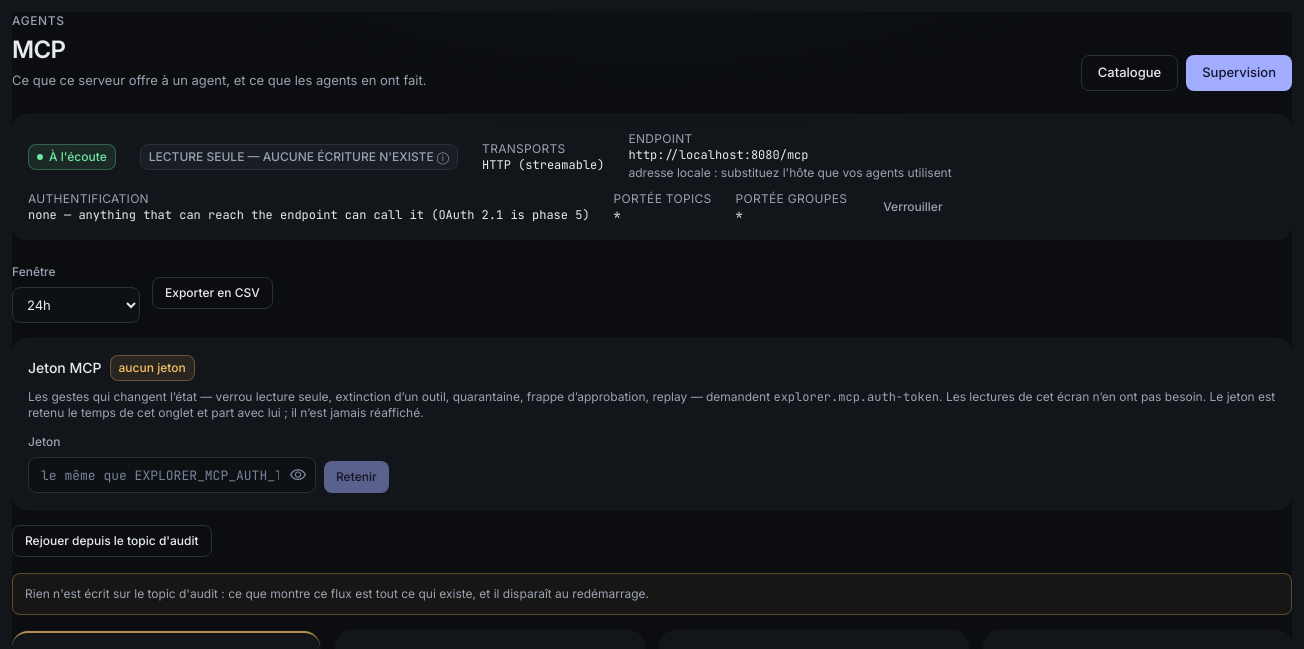
les leviers du commutateur › ne réaffiche jamais le jeton, et l’oublie sur demande
Type "secret-token" into the password field labelled "Jeton". click: (172, 475)
box: [28, 457, 316, 493]
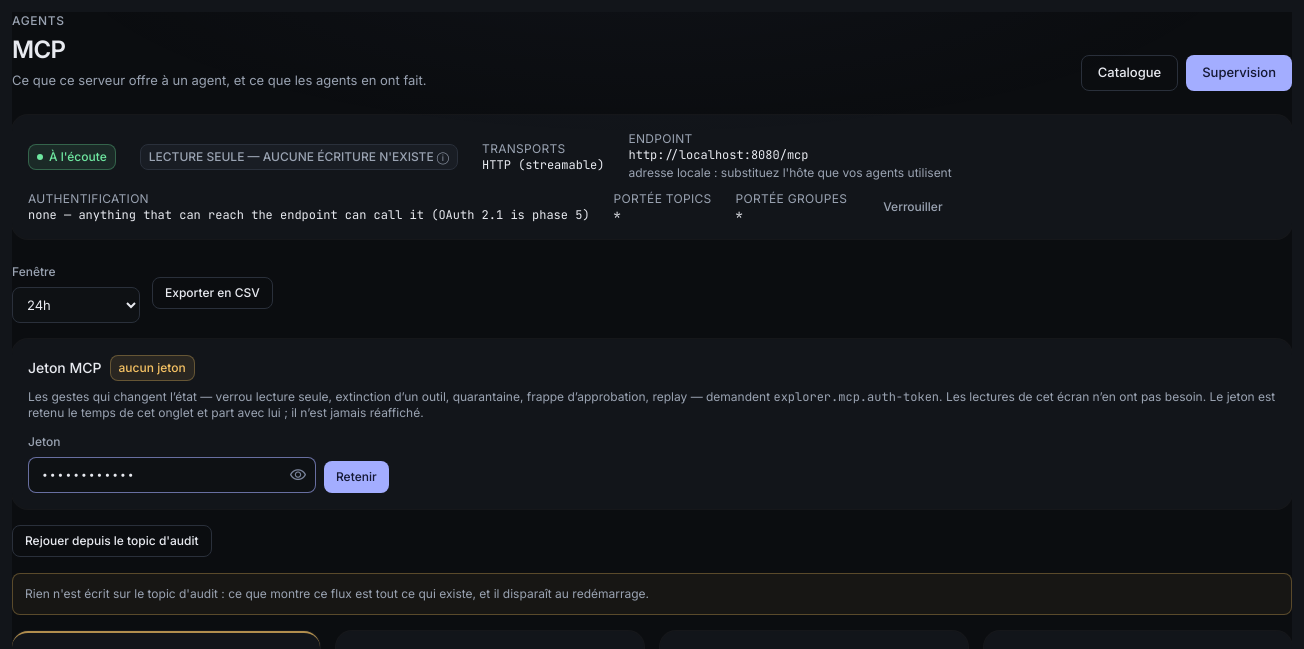
Click the button "Retenir". click: (356, 477)
box: [324, 461, 389, 493]
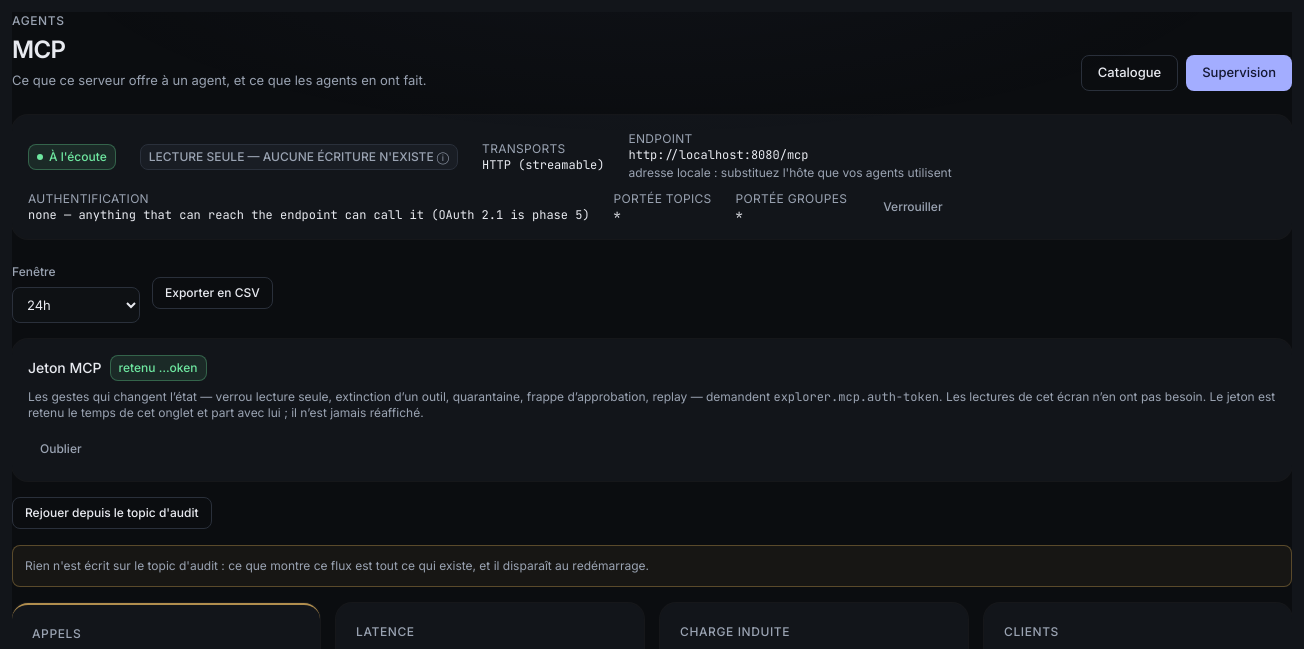
Check: the text "retenu …oken" is shown, box [110, 355, 206, 381]
Click the button "Oublier". click: (61, 449)
box: [28, 433, 94, 465]
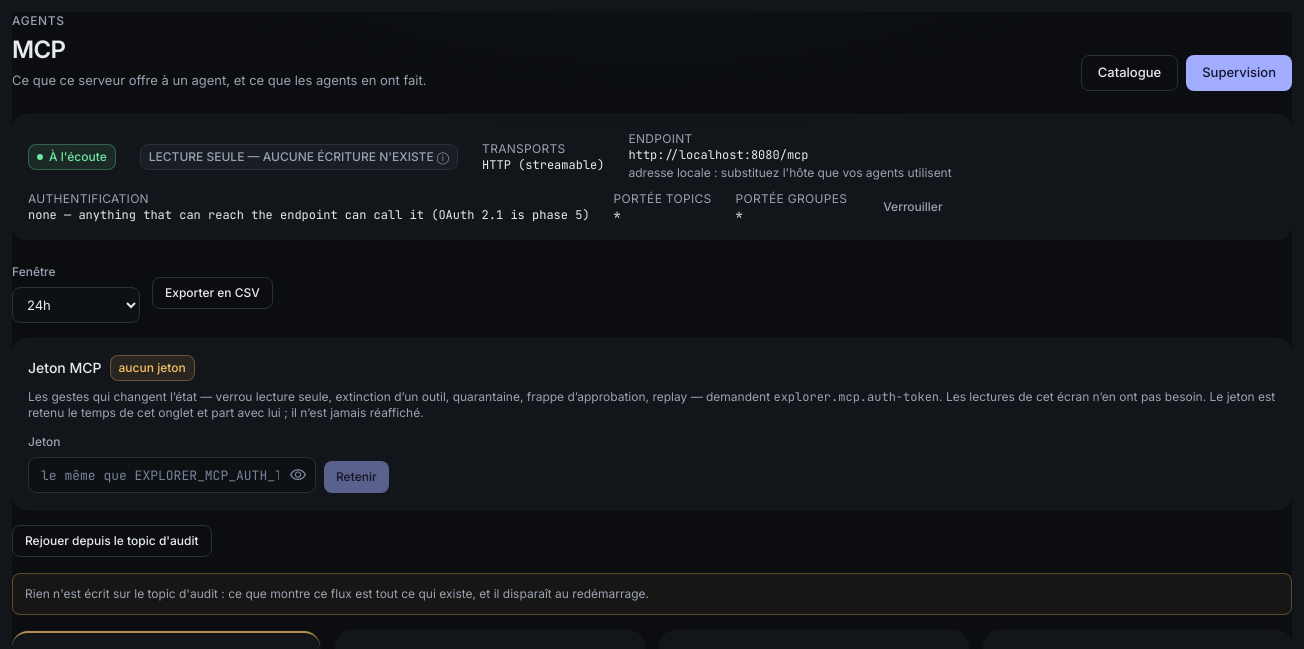
Check: the text "aucun jeton" is shown, box [110, 355, 195, 381]
